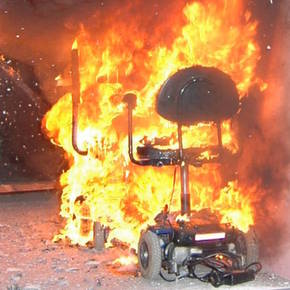fire: (50, 73, 171, 224), (75, 7, 262, 71), (176, 126, 252, 221)
smoke: (4, 5, 52, 157), (256, 77, 290, 247)
